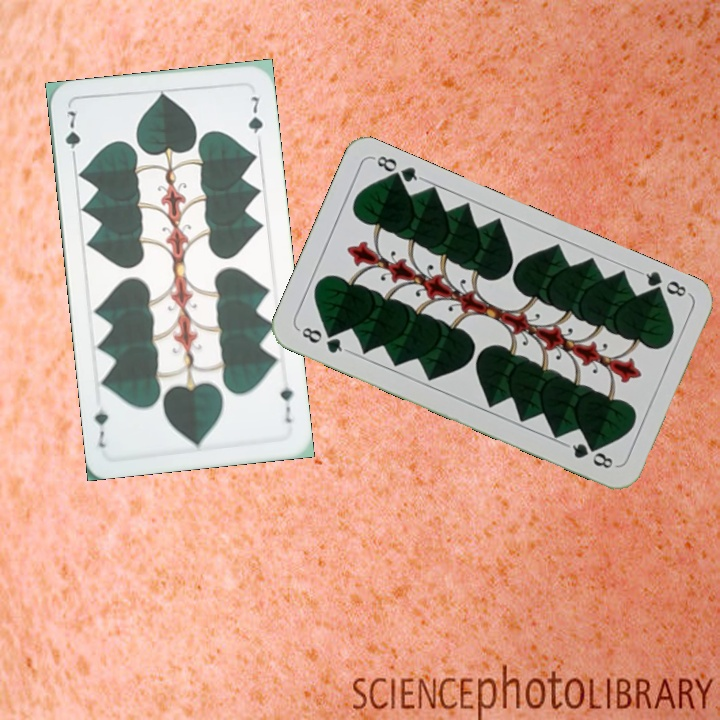G7: (61, 107, 83, 164), (276, 374, 295, 426)
G8: (294, 323, 351, 356), (635, 267, 692, 300)
